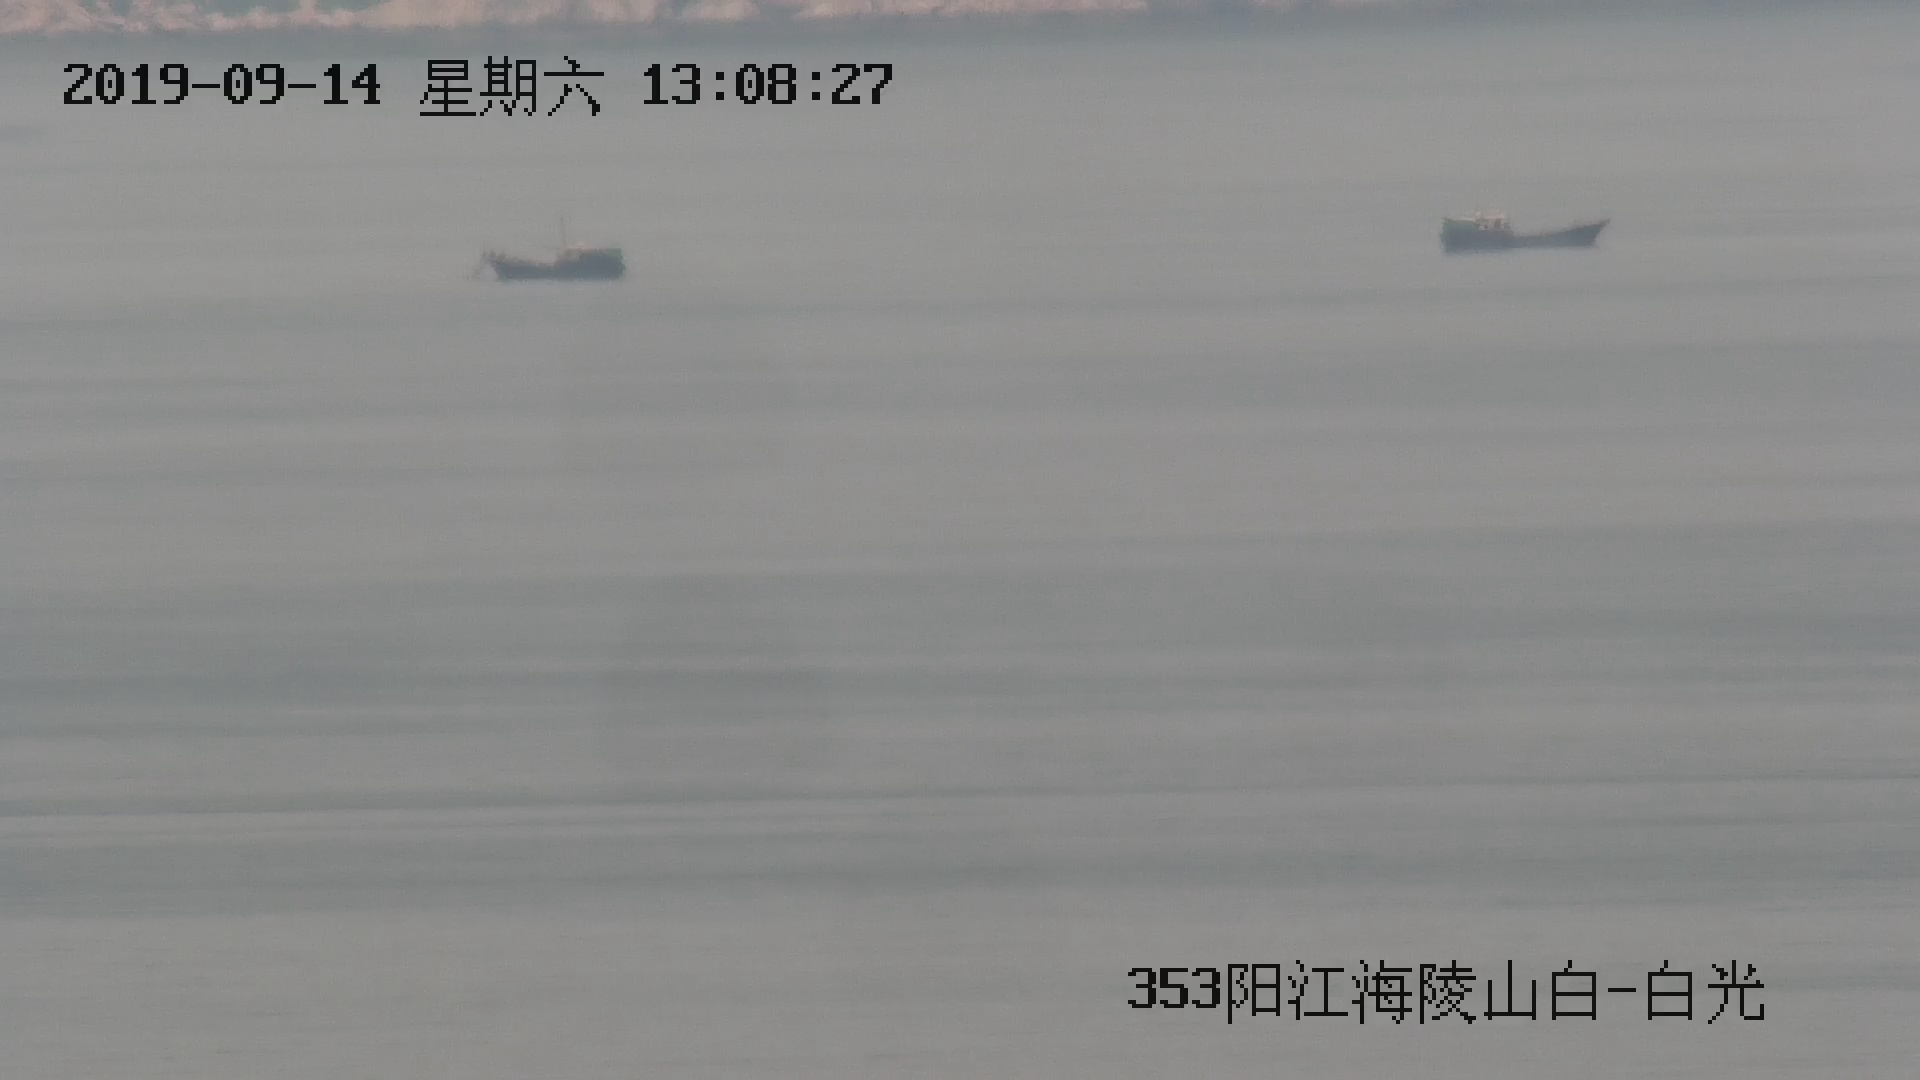ship: (475, 210, 632, 284), (1439, 207, 1609, 252)
